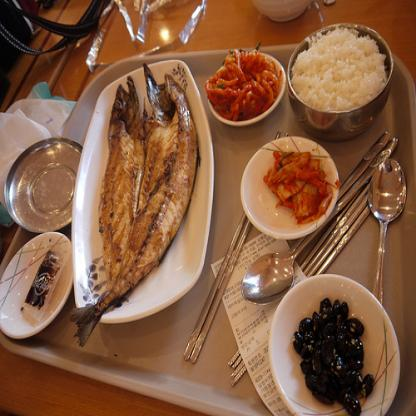Peixe: (64, 53, 204, 346)
